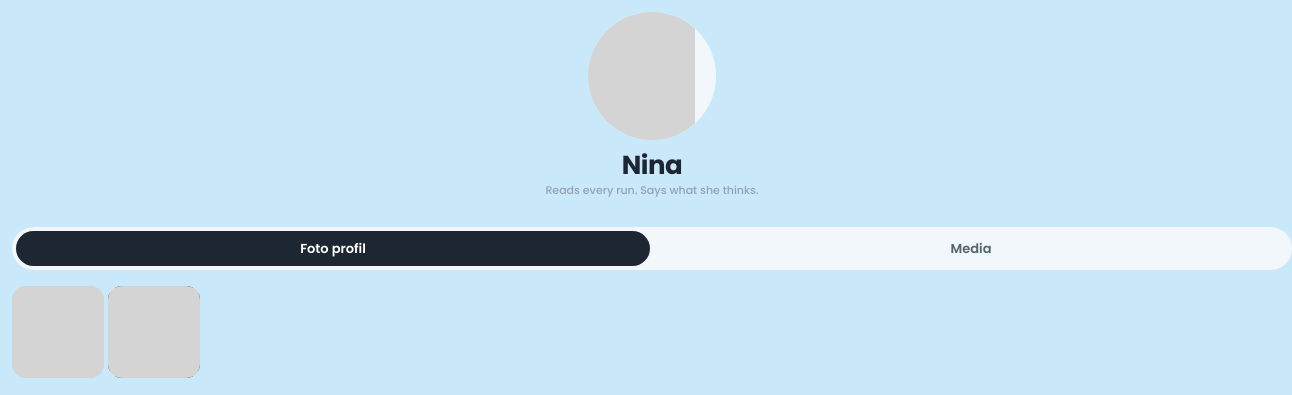
it: NinaAboutScreen — the page › an empty Media tab says so in its own sentence
This screenshot has width=1292, height=395.
Step 1. Click the tab "Media" → (971, 248), box [654, 230, 1288, 266]
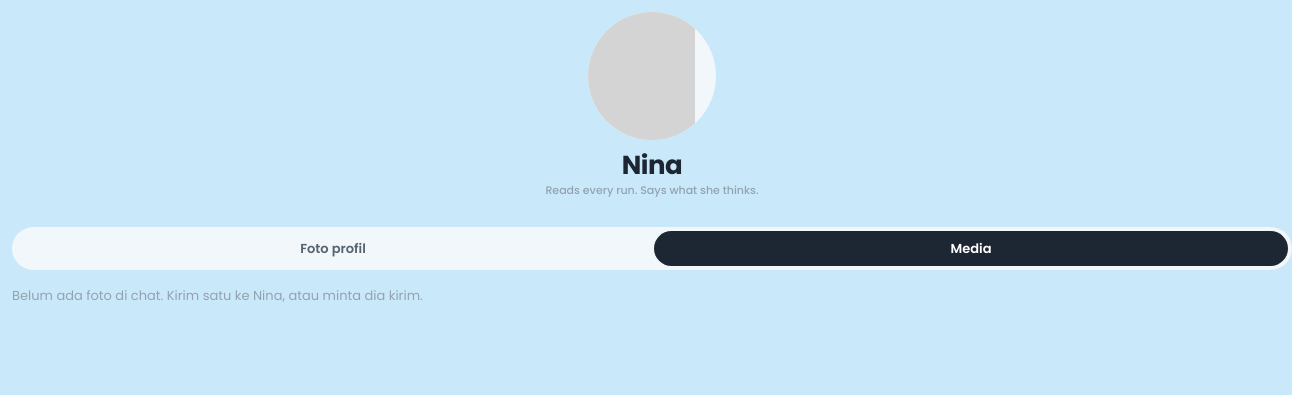
Result: the text "Belum ada foto di chat. Kirim satu ke Nina, atau minta dia kirim." is shown at [12, 286, 423, 305]
